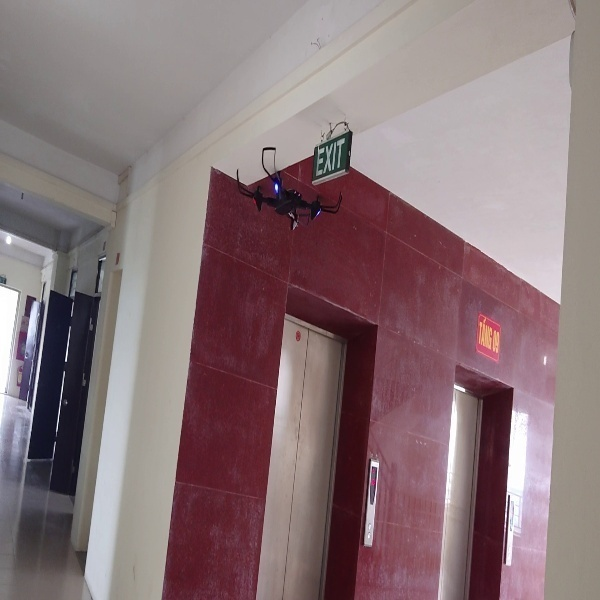drone: (236, 146, 344, 231)
